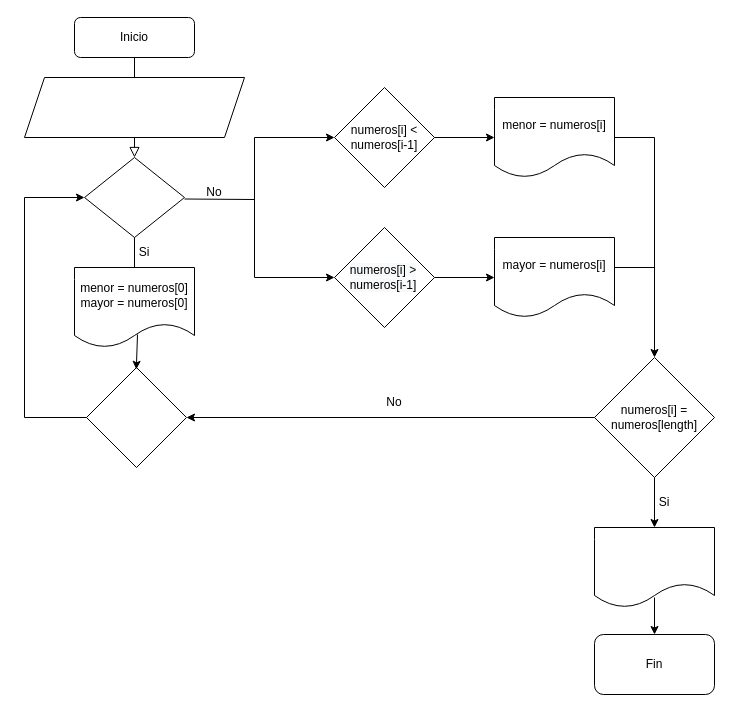
Image size: 732x712. Some labels were removed from this diagram. Here are the shapes that lost their labels. From the top down, the centre of each, then its label:
At (x=134, y=107): "numeros[ 3, 19, 21, 63, 2, 19, 38, 99, 4, 28]".
At (x=134, y=197): "numeros[0]".
At (x=136, y=417): "numeros[i+1]".
At (x=654, y=567): "Imprime mayor y menor".
